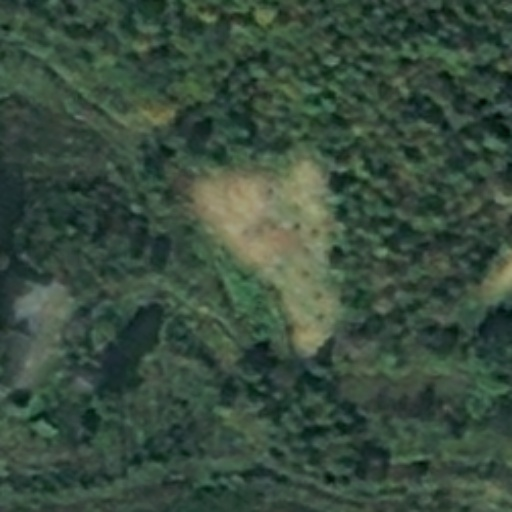landslide: (192, 167, 340, 361)
